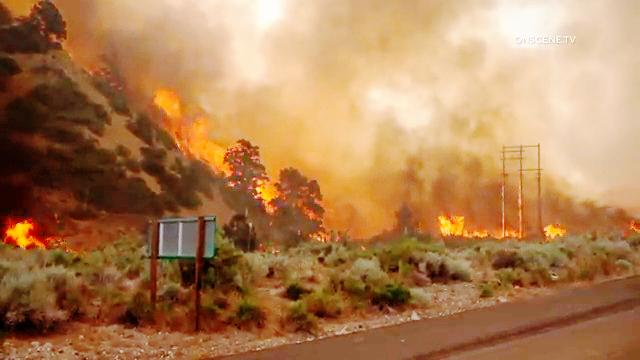fire: (149, 70, 245, 184), (399, 191, 530, 244), (0, 212, 73, 258), (253, 172, 286, 216)
smoke: (101, 2, 509, 85), (313, 86, 464, 164), (579, 4, 632, 180), (515, 52, 580, 183)
